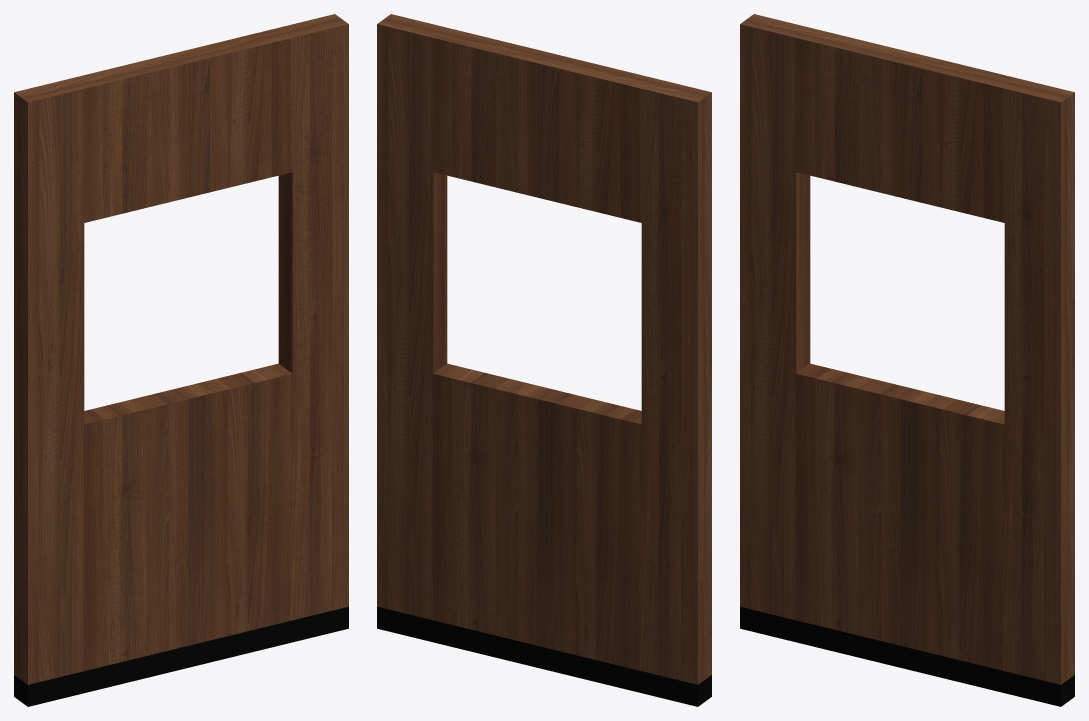
File: ARC0210036.fbx
The picture shows the model from 3 angles, left to right: view 1: azimuth 30°, elevation 25°; view 2: azimuth 150°, elevation 25°; view 3: azimuth 330°, elevation 25°; orthographic projection.
Visible parts, largest first — view 1: smARC0210036; view 2: smARC0210036; view 3: smARC0210036.
Part boxes in pixels (left/top/right/bottom): smARC0210036: left=14, top=14, right=348, bottom=706; smARC0210036: left=377, top=14, right=711, bottom=706; smARC0210036: left=740, top=14, right=1074, bottom=706.
Bounding box in the file's own units: 182 × 328 × 13.67.
1 material, 1 textured.
